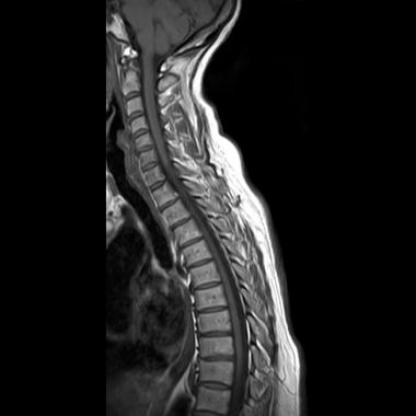Disc Bulgerotation: (136, 158, 168, 176)
